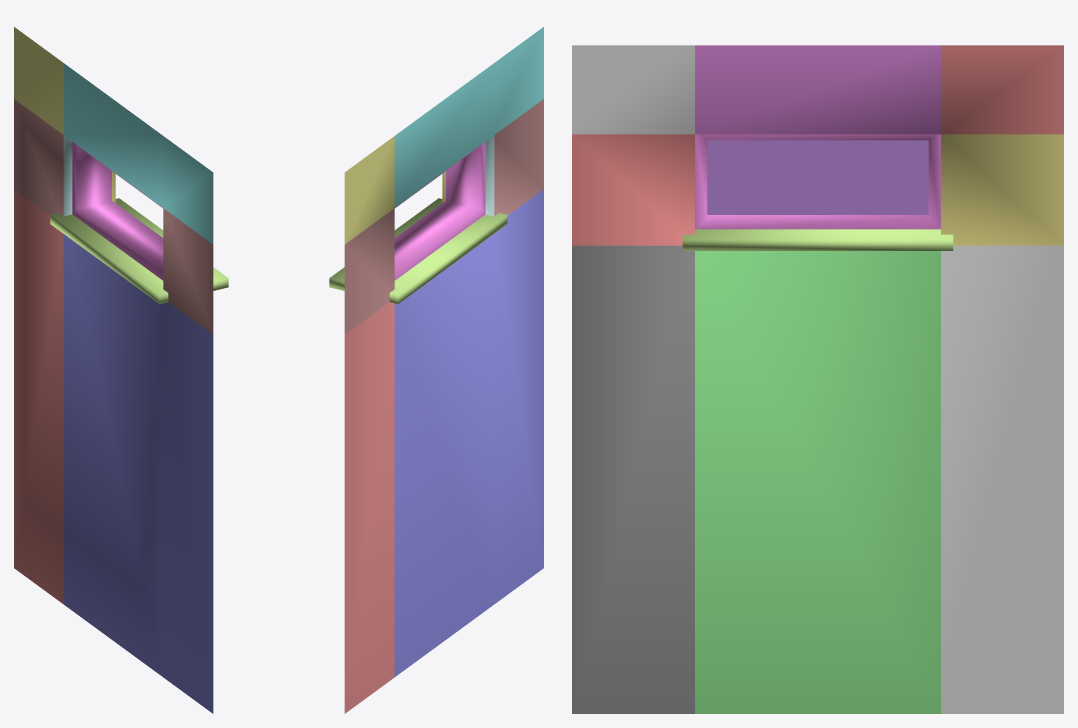
Rendered from SM_window_06_half.gltf.
3 views of the same model, side by side, from view 1: azimuth 30°, elevation 25°; view 2: azimuth 150°, elevation 25°; view 3: azimuth 270°, elevation 25° (orthographic). The views are drawn at different scales.
Visible parts, largest first — view 1: SM_window_06_half; view 2: SM_window_06_half; view 3: SM_window_06_half.
Boxes of the visible parts, x1,y1,x2,y2 form: SM_window_06_half: (14, 27, 228, 713); SM_window_06_half: (329, 27, 543, 713); SM_window_06_half: (572, 45, 1063, 713).
Bounding box in the file's own units: 0.4 × 3 × 2.
